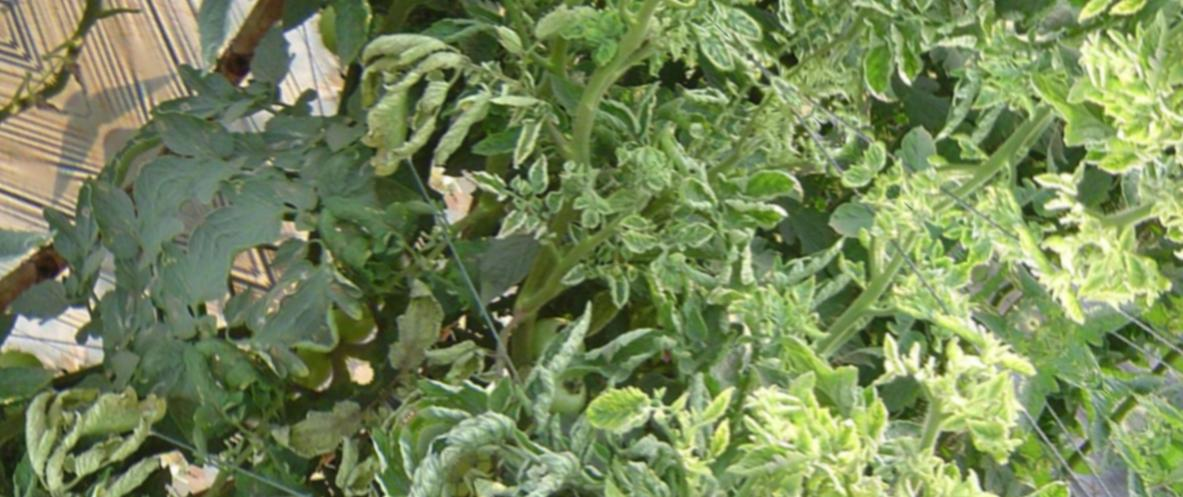Tomato leaf yellow virus: (525, 0, 651, 88), (579, 366, 660, 447), (753, 392, 831, 471), (726, 150, 801, 226), (489, 143, 562, 218), (660, 162, 726, 226), (822, 432, 881, 493), (608, 215, 666, 273), (546, 249, 601, 307), (591, 268, 637, 314), (535, 189, 573, 228), (569, 200, 607, 239), (917, 470, 951, 497)
